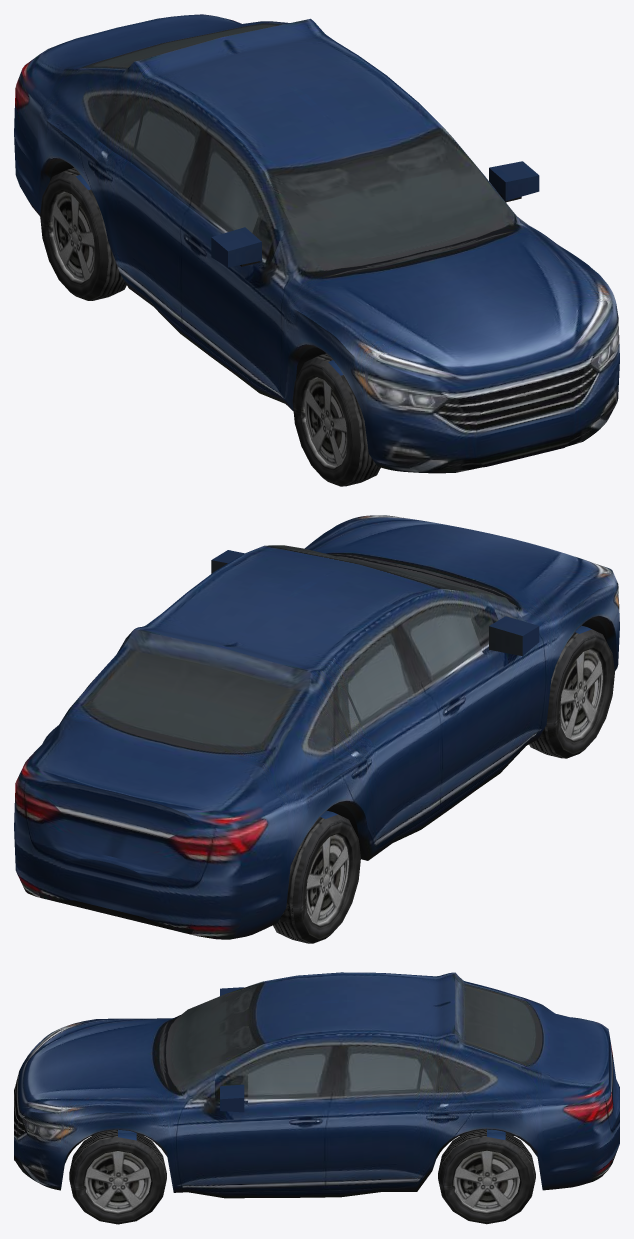
File: sedan.glb
3 views of the same model, one above another, from view 1: azimuth 30°, elevation 25°; view 2: azimuth 150°, elevation 25°; view 3: azimuth 270°, elevation 25° (orthographic). The views are drawn at different scales.
Visible parts, largest first — view 1: body, wheel-front-right, wheel-back-right; view 2: body, wheel-back-right, wheel-front-right; view 3: body, wheel-back-left, wheel-front-left.
Part boxes in pixels (<box>): body: <box>14,14,619,473</box>; wheel-front-right: <box>292,353,380,486</box>; wheel-back-right: <box>40,168,126,300</box>; body: <box>14,515,619,939</box>; wheel-back-right: <box>273,810,360,943</box>; wheel-front-right: <box>529,625,614,758</box>; body: <box>14,972,619,1198</box>; wheel-back-left: <box>438,1129,535,1224</box>; wheel-front-left: <box>69,1129,166,1224</box>.
Bounding box in the file's own units: 2.07 × 1.56 × 4.78.
Materials: 1 (1 with a texture image).
